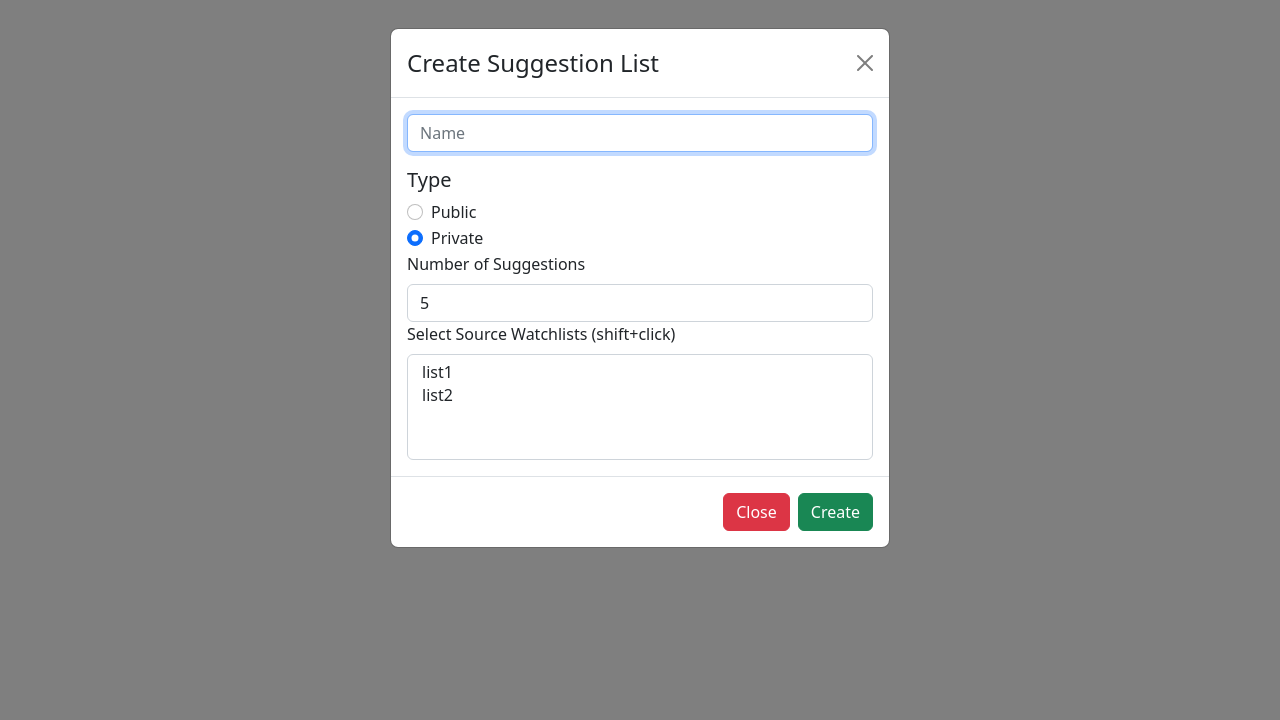
WatchlistDetail page › shows an error message when number of suggestions is out of bounds
Type "Watchlist 1" into the field with placeholder "Name" at [640, 133], box [407, 114, 873, 152]
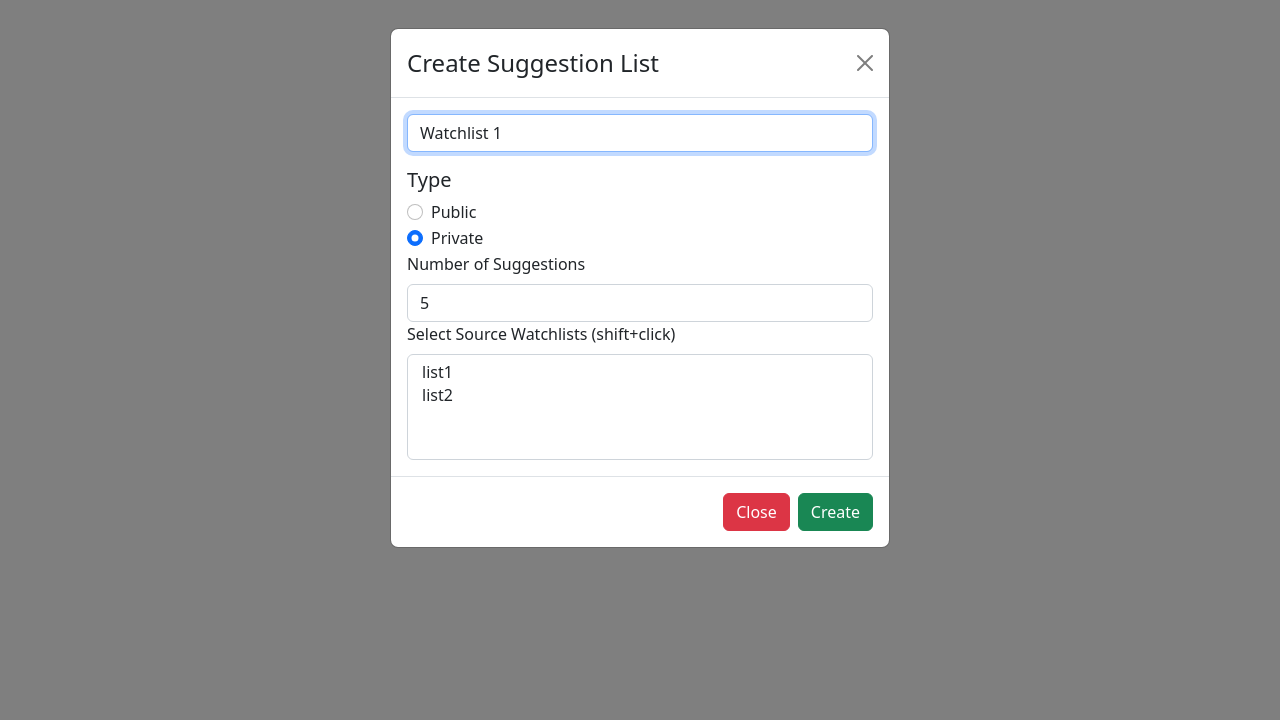
Replace the text in the number field with test id "numSuggestions" with "0" at [640, 303], box [407, 284, 873, 322]
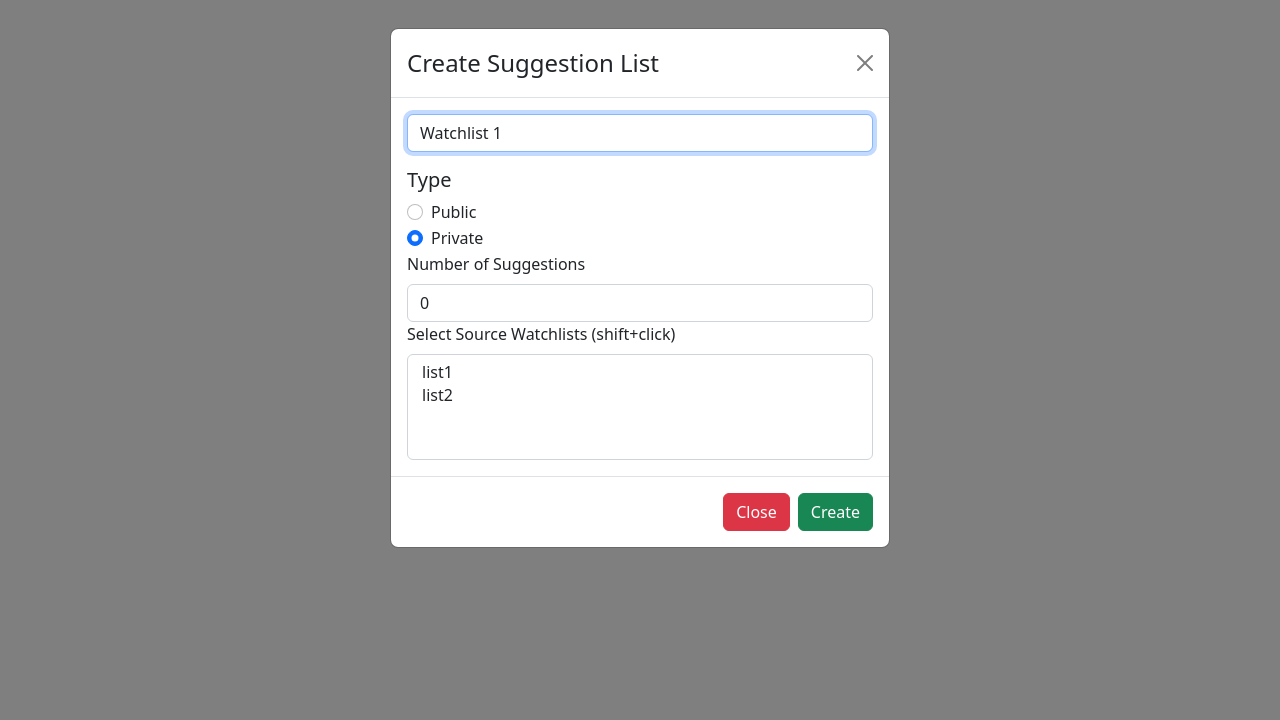
Click the button with test id "createHandleSubmit" at [835, 512], box [798, 493, 873, 531]
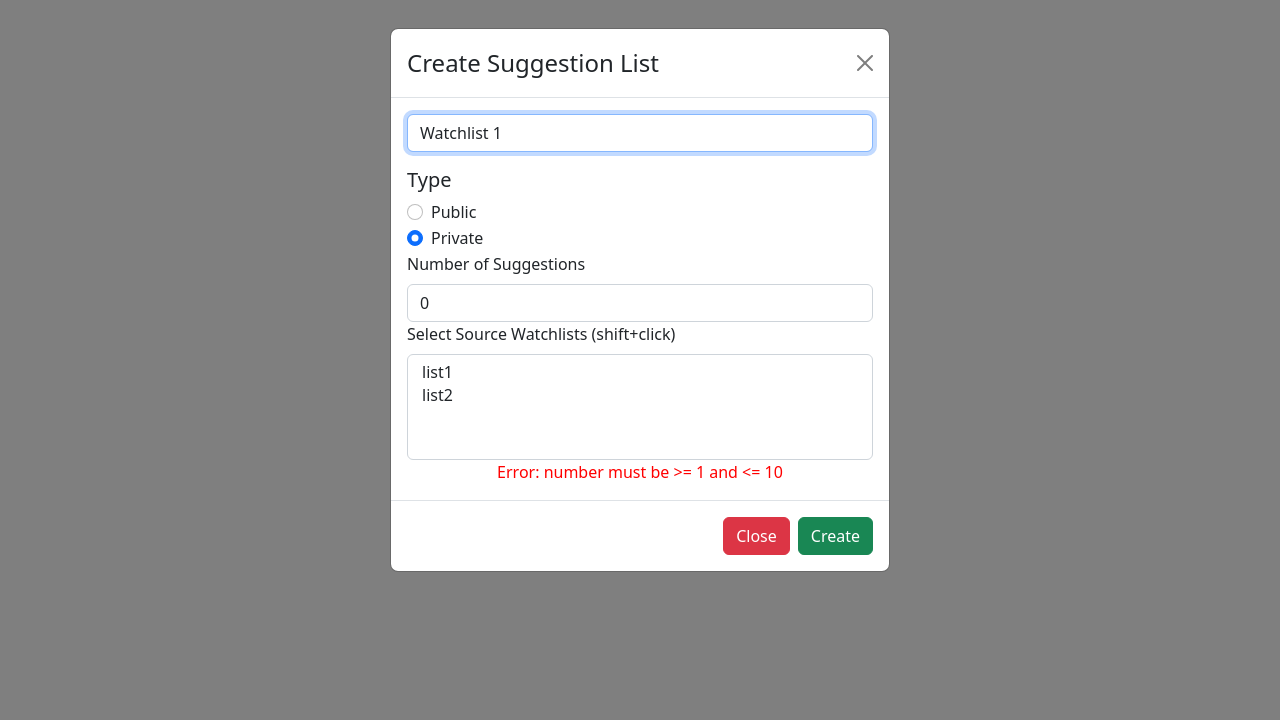
expect the text "Error: number must be >= 1 and <= 10" is shown: met, box [497, 461, 783, 483]
